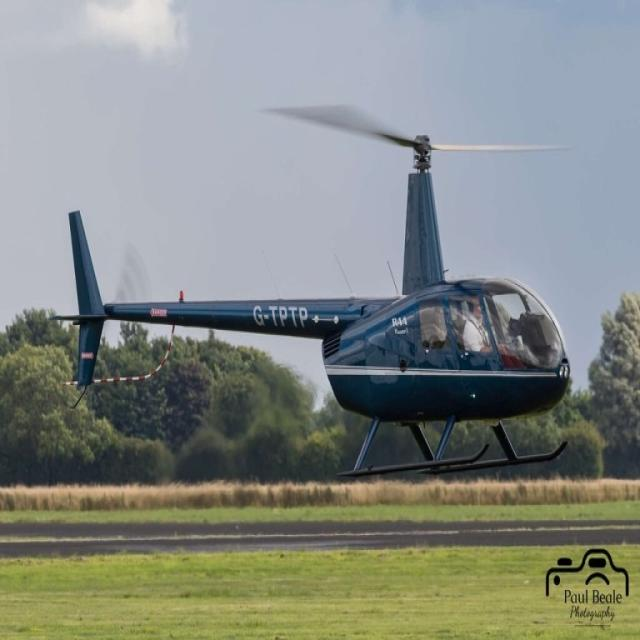CIV_HELO: (48, 131, 574, 481)
